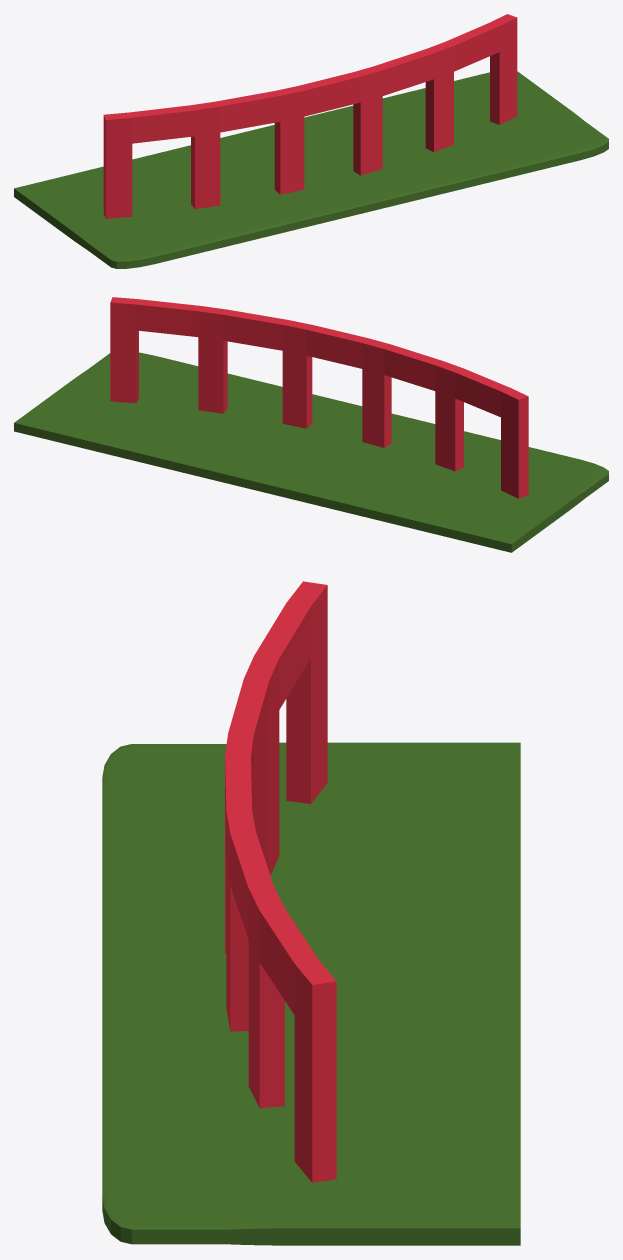
Rendered from monumento.glb.
3 views of the same model, one above another, from view 1: azimuth 30°, elevation 25°; view 2: azimuth 150°, elevation 25°; view 3: azimuth 270°, elevation 25° (orthographic). The views are drawn at different scales.
Parts seen in each view (by area): view 1: Cubo, Cubo.001; view 2: Cubo, Cubo.001; view 3: Cubo, Cubo.001.
Boxes of the visible parts, bbox=[...] form: Cubo: bbox=[14, 71, 608, 268]; Cubo.001: bbox=[103, 14, 517, 218]; Cubo: bbox=[14, 352, 608, 552]; Cubo.001: bbox=[110, 297, 528, 498]; Cubo: bbox=[102, 742, 520, 1245]; Cubo.001: bbox=[225, 581, 336, 1182].
Bounding box in the file's own units: 15.1 × 3.12 × 5.5.
